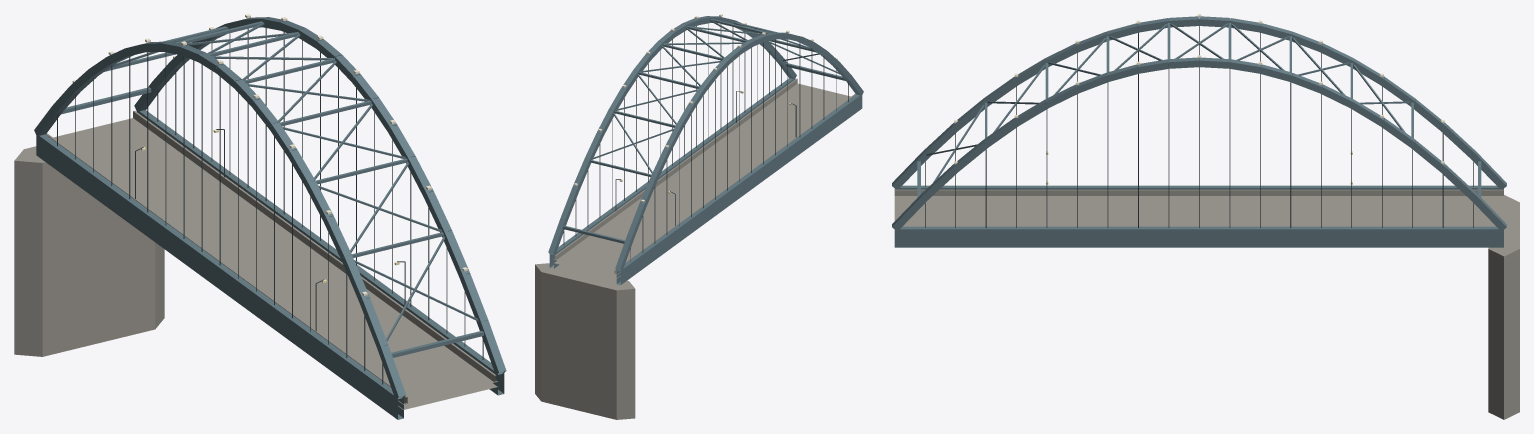
The model's file is centennial.glb.
3 views of the same model, side by side, from view 1: azimuth 30°, elevation 25°; view 2: azimuth 150°, elevation 25°; view 3: azimuth 270°, elevation 25° (orthographic). The views are drawn at different scales.
Visible parts, largest first — view 1: centennial_lod0; view 2: centennial_lod0; view 3: centennial_lod0.
Part boxes in pixels (left/top/right/bottom): centennial_lod0: left=14, top=14, right=506, bottom=419; centennial_lod0: left=535, top=14, right=863, bottom=419; centennial_lod0: left=892, top=14, right=1519, bottom=419.
Size of what is drawn, in the model's own units: 24 by 64.05 by 103.
